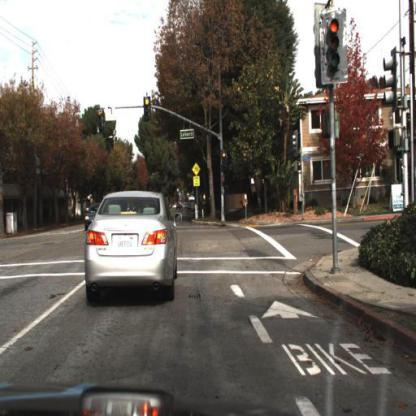car: (86, 192, 178, 301)
trafficLight-Red: (323, 16, 344, 80), (328, 12, 342, 55), (143, 93, 152, 124), (219, 146, 231, 167), (222, 150, 230, 176)
trafficLight-RedLeft: (97, 107, 106, 136)
